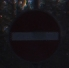No entry: (7, 7, 63, 62)
